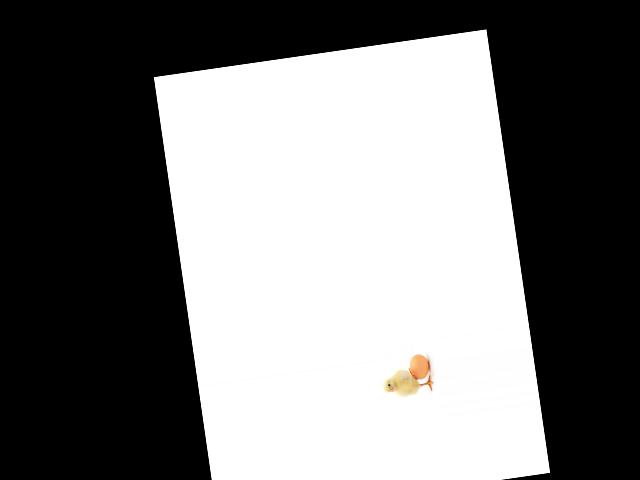egg: (407, 353, 430, 381)
